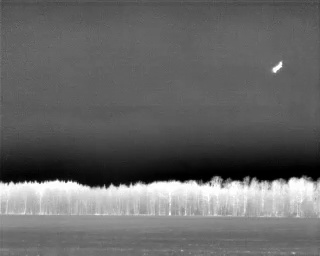DRONE: (268, 57, 288, 78)
